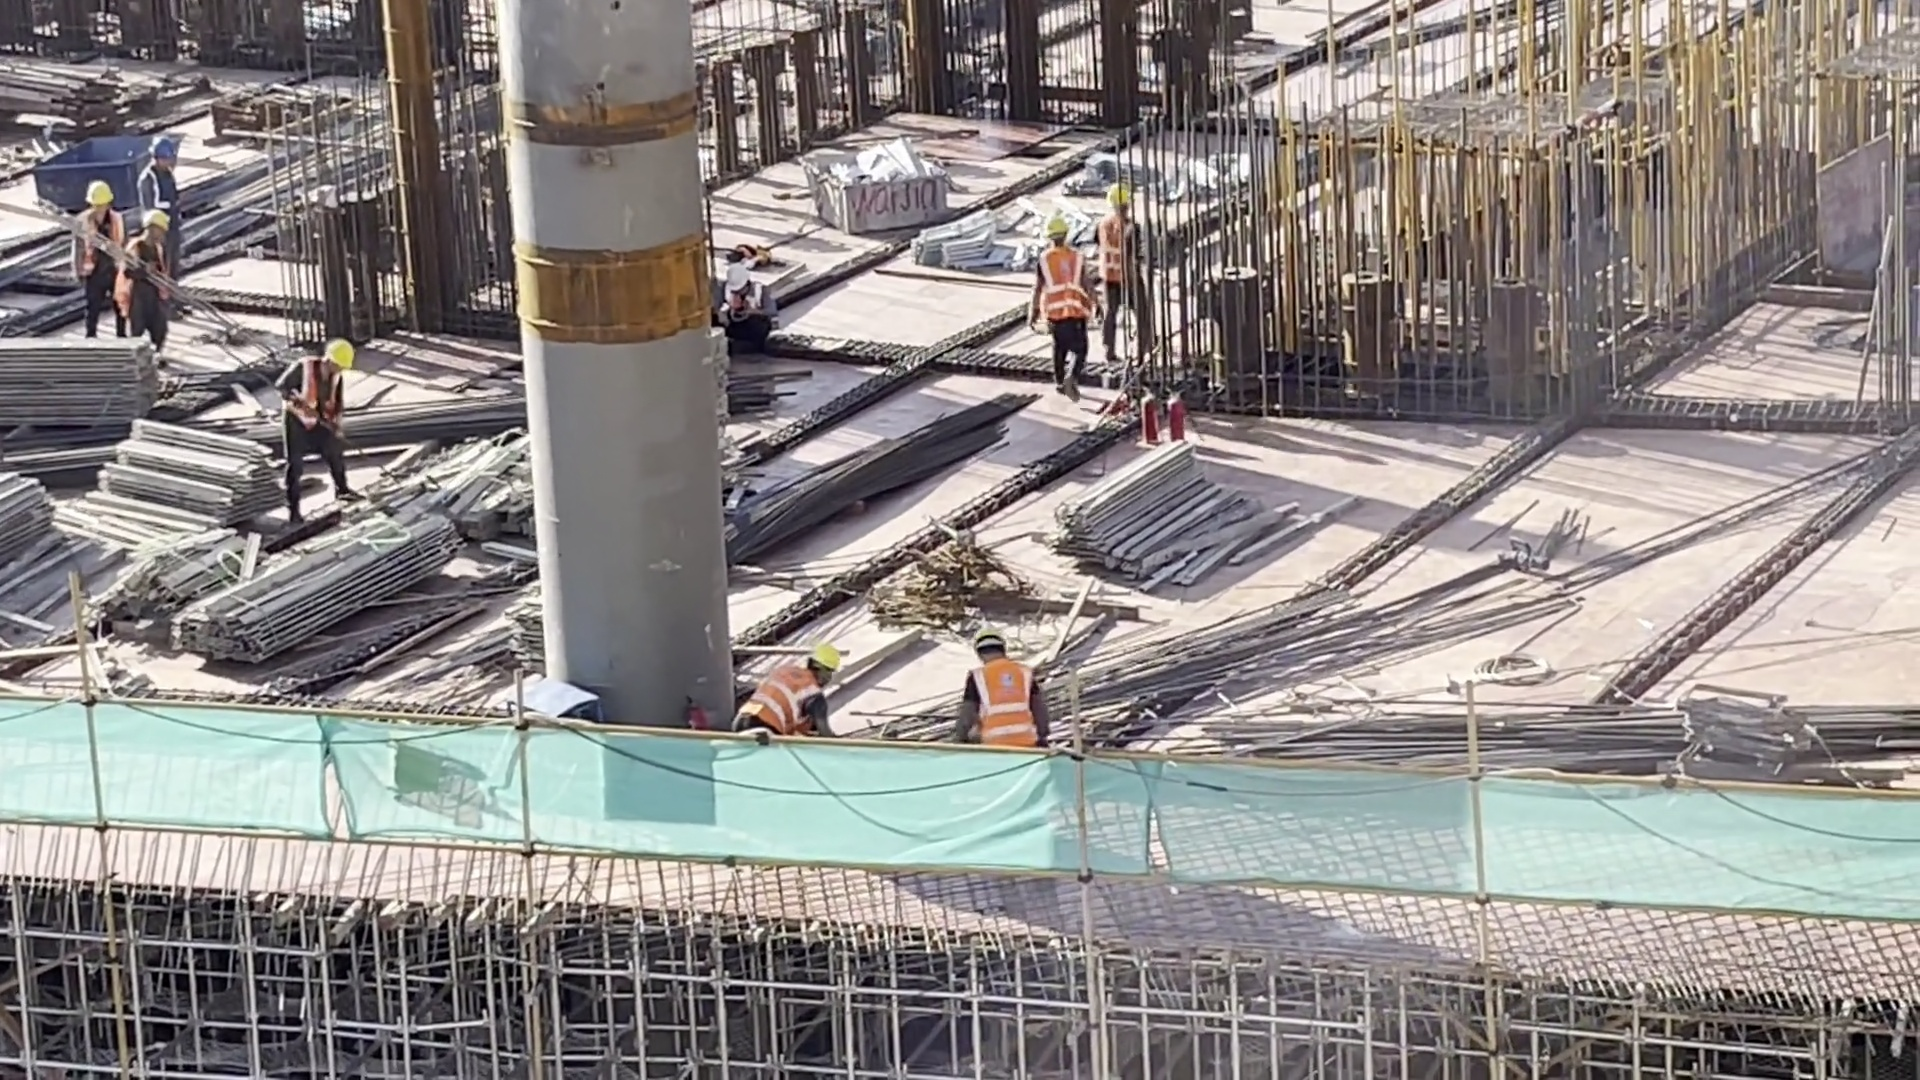helmet: (132, 202, 178, 239), (808, 645, 844, 683), (970, 616, 1011, 648), (1101, 186, 1138, 213), (80, 179, 115, 208), (319, 342, 352, 371), (149, 142, 192, 163), (723, 264, 752, 291), (1045, 213, 1071, 238)
hopper: (797, 130, 960, 230), (29, 116, 184, 216)
person: (258, 313, 364, 531), (934, 617, 1059, 772), (1021, 216, 1103, 398), (745, 613, 840, 764), (51, 171, 128, 335), (1096, 178, 1155, 353), (118, 124, 189, 268), (119, 204, 182, 343), (714, 261, 791, 348)
vest: (755, 657, 843, 738), (1032, 253, 1101, 350), (964, 664, 1041, 750), (291, 356, 345, 437), (71, 208, 114, 275), (1097, 224, 1145, 282), (123, 242, 173, 293), (140, 169, 171, 215)
wood: (178, 509, 477, 656), (1060, 443, 1280, 591), (100, 409, 299, 560), (1, 329, 178, 468)
